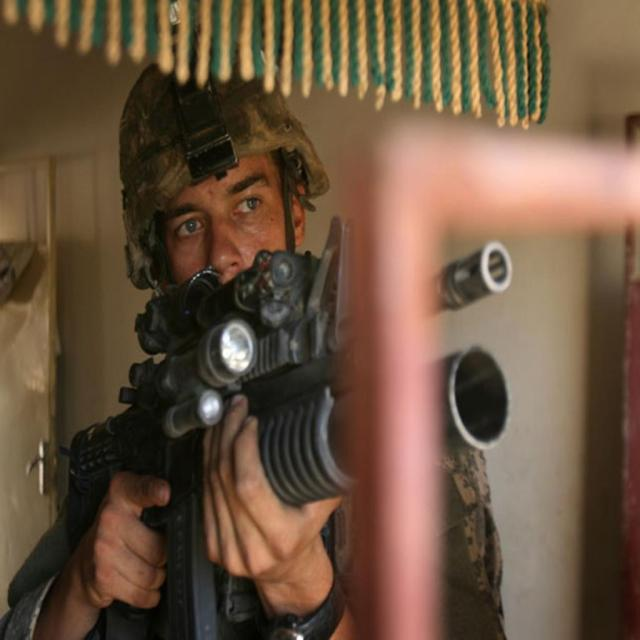Face: (154, 155, 296, 304)
